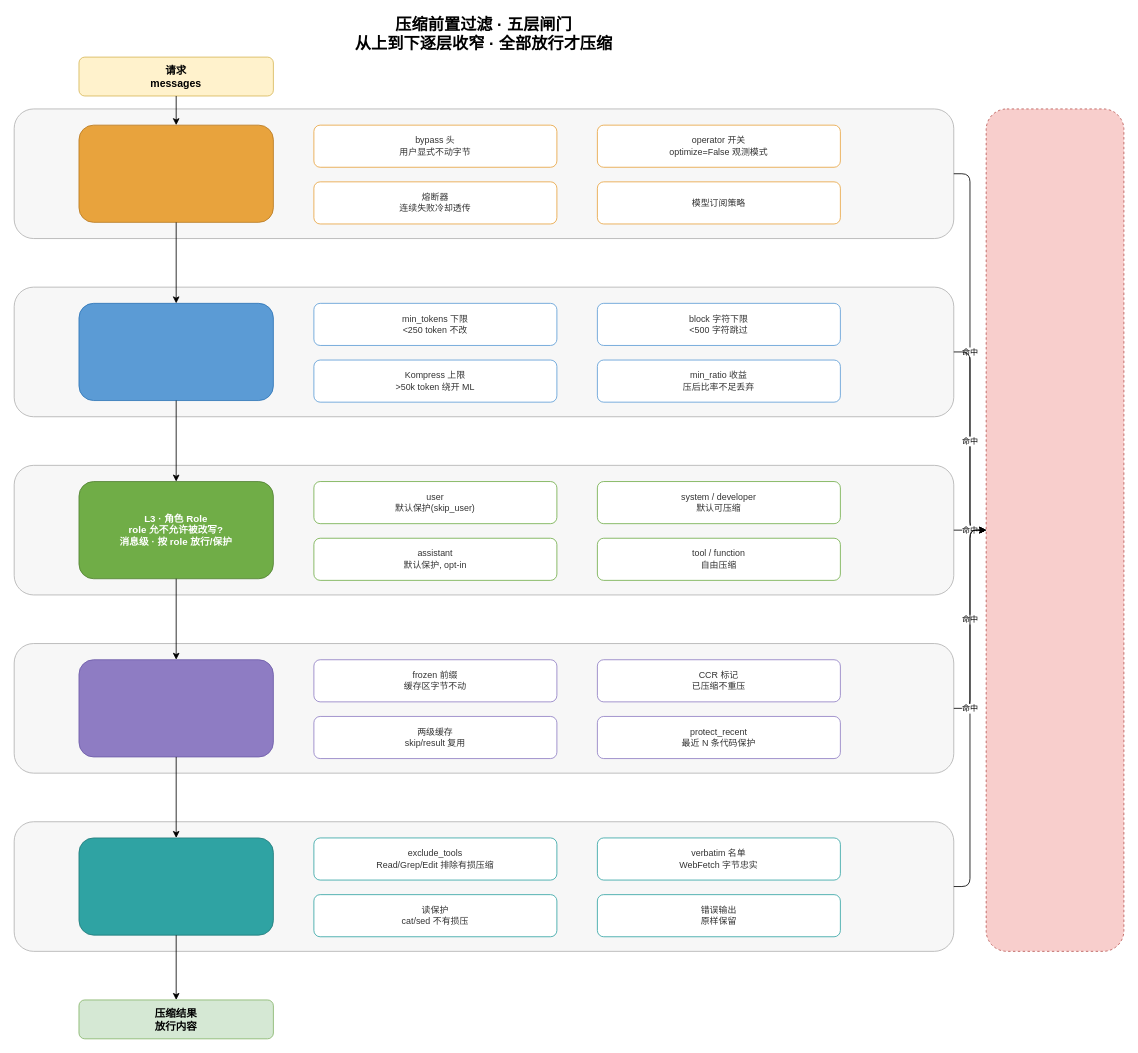
This 1138x1053 diagram has some shape labels left out. Each missing label, with the box of its shape:
L1 · 开关 Switch 要不要压缩这个请求? 请求级 · 命中即整体透传: (78, 124, 273, 222)
L2 · 尺寸 Size 够不够大、压了值不值? 消息级 · 命中该条原样: (78, 303, 273, 401)
L4 · 历史 History 已压缩过 / 在缓存里? 内容级 · 命中复用或跳过: (78, 659, 273, 757)
L5 · 工具 Tool 哪个 tool 的输出、能动吗? 块级 · 命中原样/无损折叠: (78, 837, 273, 935)
命中任一闸门 → 透传原样 (不压缩): (985, 108, 1124, 951)
